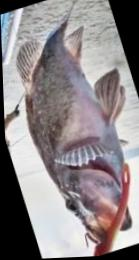fish: (14, 17, 130, 247)
